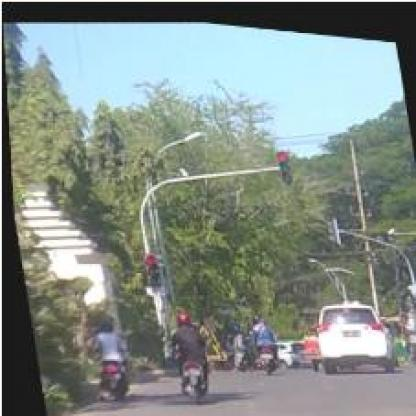red: (138, 249, 155, 282), (275, 144, 289, 175)
